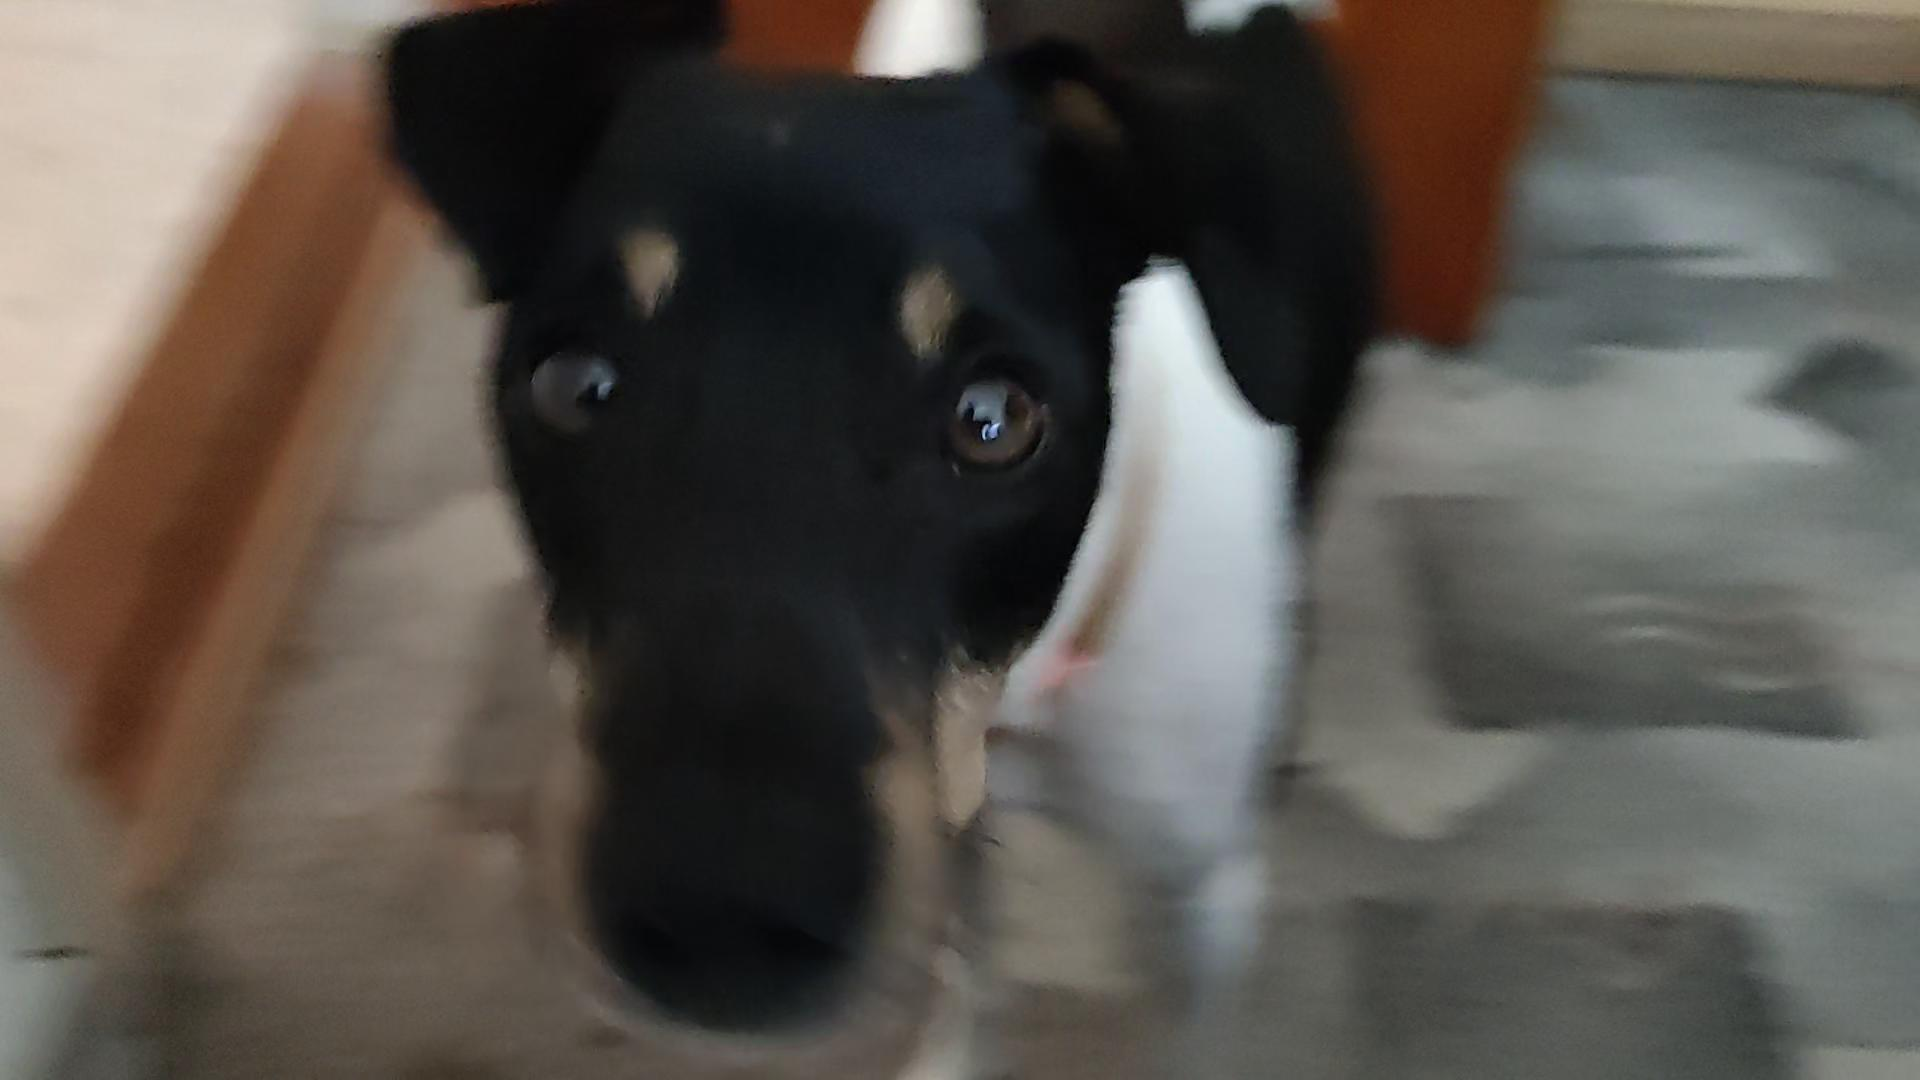Dog: (326, 0, 1432, 1079)
